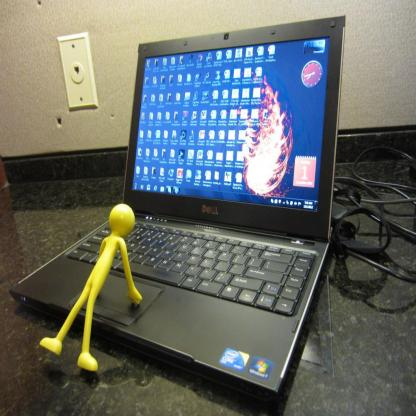board: (8, 14, 345, 399)
